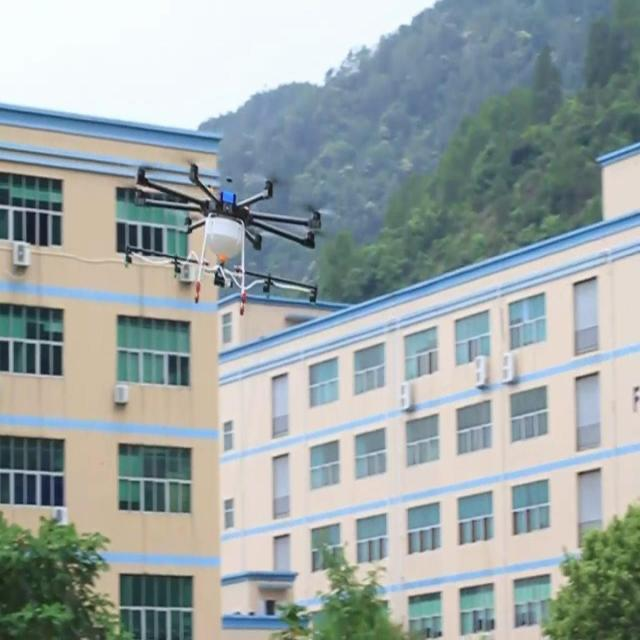UAV: (124, 164, 321, 316)
